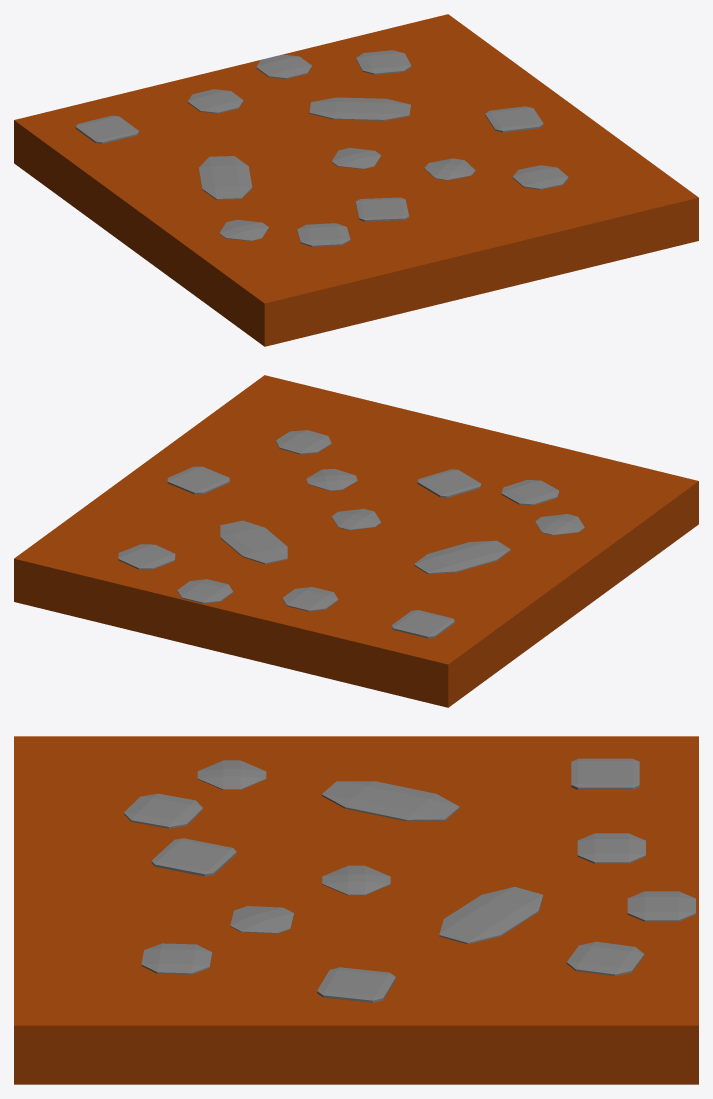
File: Floor.fbx
The picture shows the model from 3 angles, top to bottom: view 1: azimuth 30°, elevation 25°; view 2: azimuth 150°, elevation 25°; view 3: azimuth 270°, elevation 25°; orthographic projection. The views are drawn at different scales.
Visible parts, largest first — view 1: Floor.002; view 2: Floor.002; view 3: Floor.002.
Boxes of the visible parts, box(x1,y1,x2,y2) form: Floor.002: box(14, 14, 698, 346); Floor.002: box(14, 375, 698, 707); Floor.002: box(14, 736, 698, 1084).
Size of the model in its own units: 200 by 20 by 200.
